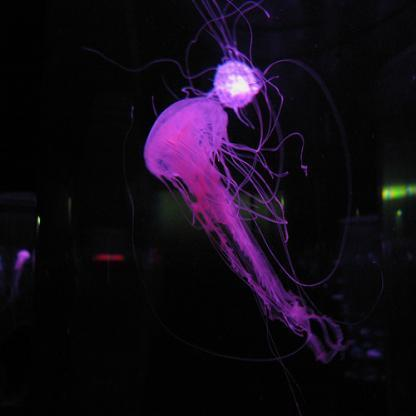GoldThorn: (212, 51, 266, 109)
Mosaic: (142, 99, 344, 355)
